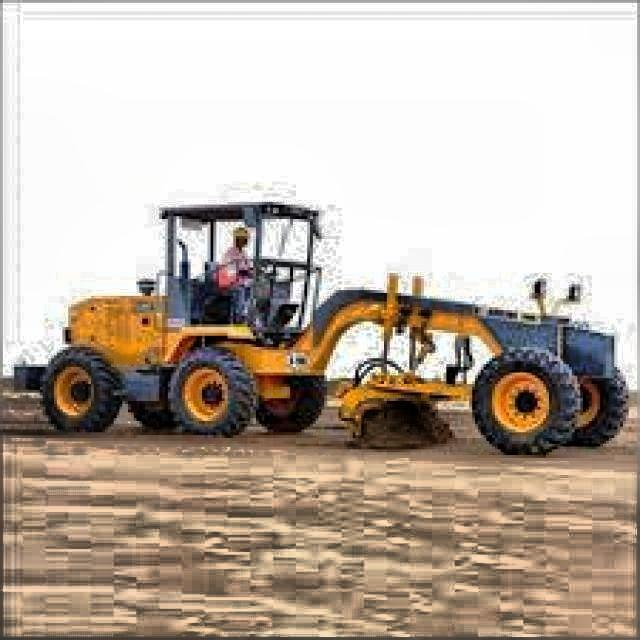bull_dozer/loader/grader: (11, 192, 634, 461)
person: (213, 222, 260, 320)
